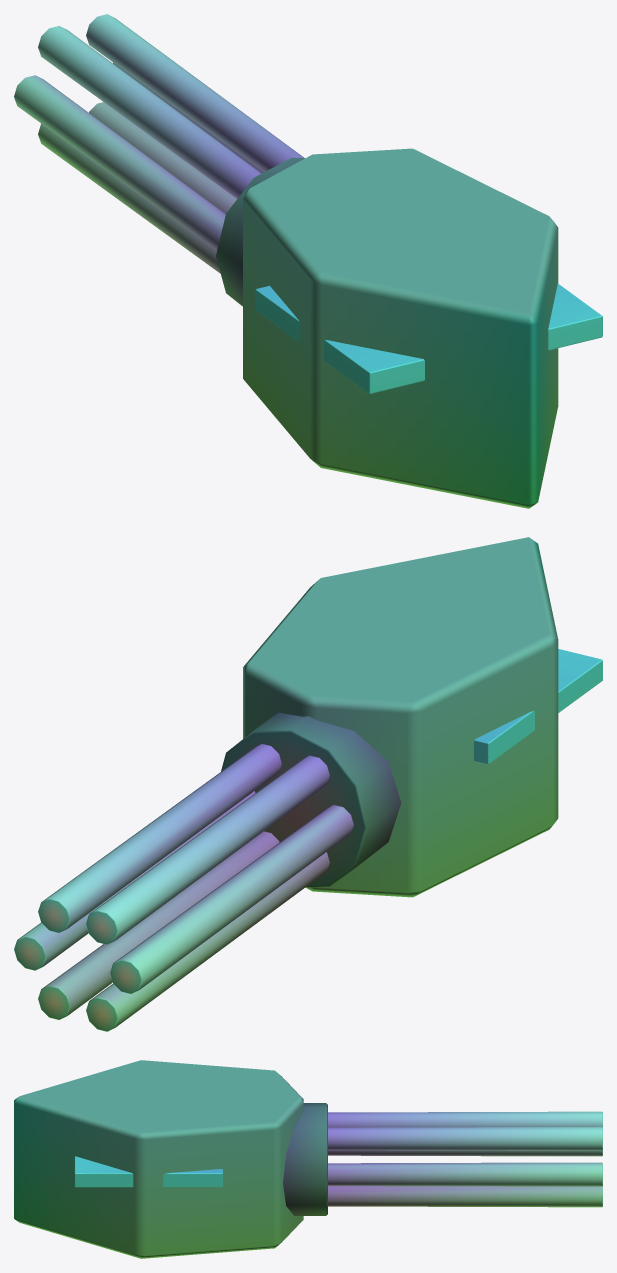
Rendered from kit_boss_pulse_gatling.glb.
3 views of the same model, one above another, from view 1: azimuth 30°, elevation 25°; view 2: azimuth 150°, elevation 25°; view 3: azimuth 270°, elevation 25° (orthographic). The views are drawn at different scales.
Parts seen in each view (by area): view 1: Body__armor, Spinner_Z_0__chrome, Body__emit_core, Spinner_Z_0__gunmetal; view 2: Body__armor, Spinner_Z_0__chrome, Spinner_Z_0__gunmetal, Body__emit_core; view 3: Body__armor, Spinner_Z_0__chrome, Spinner_Z_0__gunmetal, Body__emit_core.
Part boxes in pixels (x1,y1,x2,y2): Body__armor: (243, 148, 558, 508); Spinner_Z_0__chrome: (14, 14, 303, 273); Body__emit_core: (255, 283, 602, 393); Spinner_Z_0__gunmetal: (216, 157, 304, 306); Body__armor: (243, 537, 558, 897); Spinner_Z_0__chrome: (14, 744, 353, 1031); Spinner_Z_0__gunmetal: (221, 712, 401, 887); Body__emit_core: (474, 649, 602, 764); Body__armor: (14, 1060, 303, 1258); Spinner_Z_0__chrome: (328, 1111, 602, 1207); Spinner_Z_0__gunmetal: (283, 1103, 327, 1215); Body__emit_core: (74, 1156, 222, 1187).
Size of the model in its own units: 0.4149 by 0.32 by 1.35.
